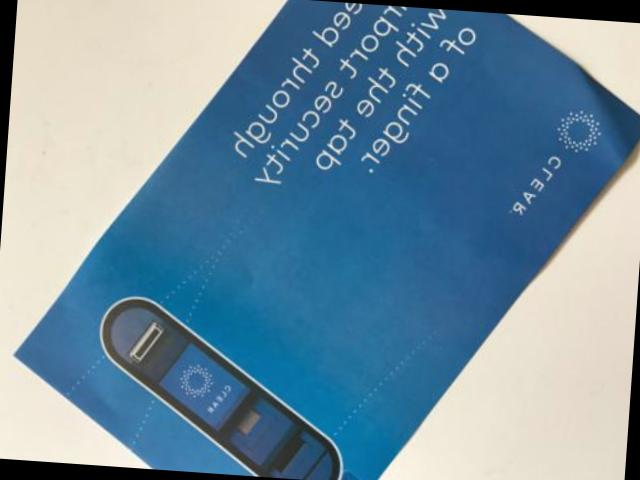cardboard paper: (13, 0, 640, 480)
